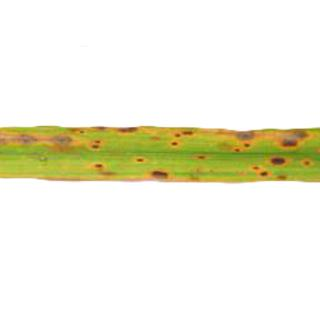bercak-Cokelat: (271, 129, 311, 151), (165, 130, 197, 154), (269, 153, 291, 173), (249, 162, 271, 182), (148, 168, 174, 184), (132, 150, 150, 170)
